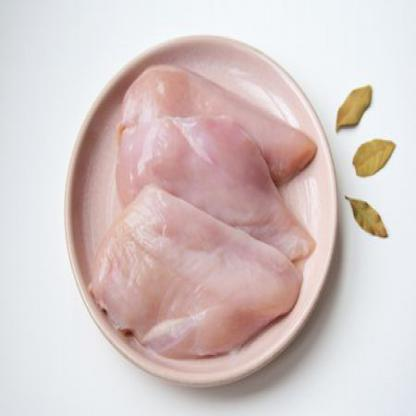chicken: (92, 175, 304, 376), (117, 110, 318, 264), (112, 61, 324, 189)
